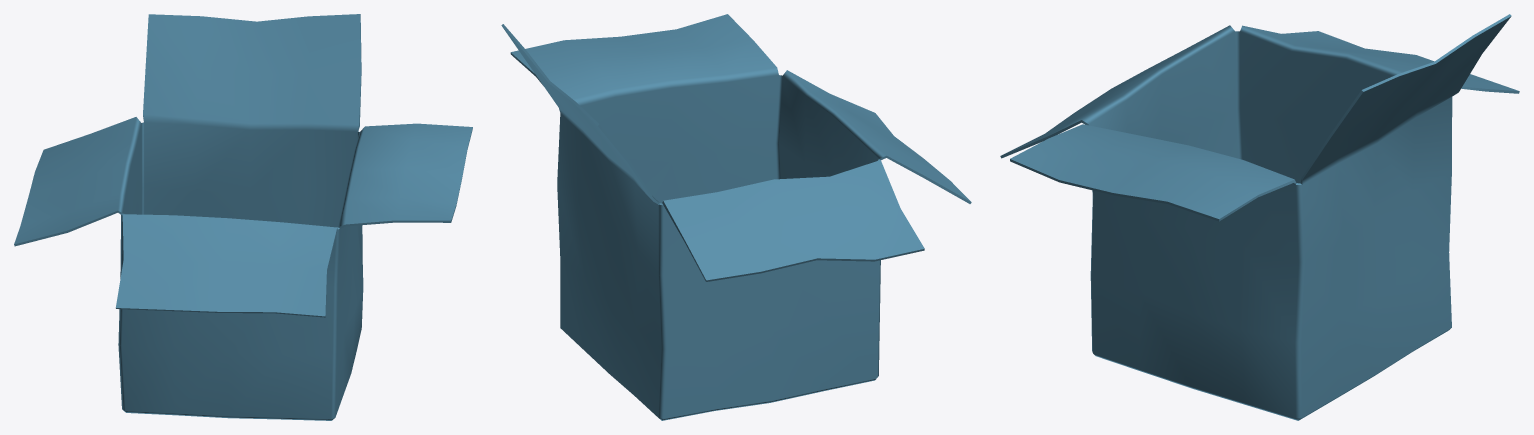
File: GJ_Decor_Box_01.fbx
3 renders of one model, left to right at view 1: azimuth 30°, elevation 25°; view 2: azimuth 150°, elevation 25°; view 3: azimuth 270°, elevation 25°, orthographic. The views are drawn at different scales.
Parts seen in each view (by area): view 1: GJ_Decor_Box_01; view 2: GJ_Decor_Box_01; view 3: GJ_Decor_Box_01.
Boxes of the visible parts, left/top/right/bottom form: GJ_Decor_Box_01: left=14, top=14, right=472, bottom=420; GJ_Decor_Box_01: left=501, top=14, right=971, bottom=420; GJ_Decor_Box_01: left=1000, top=14, right=1519, bottom=420.
Size of the model in its own units: 5.77 by 3.87 by 5.21.
